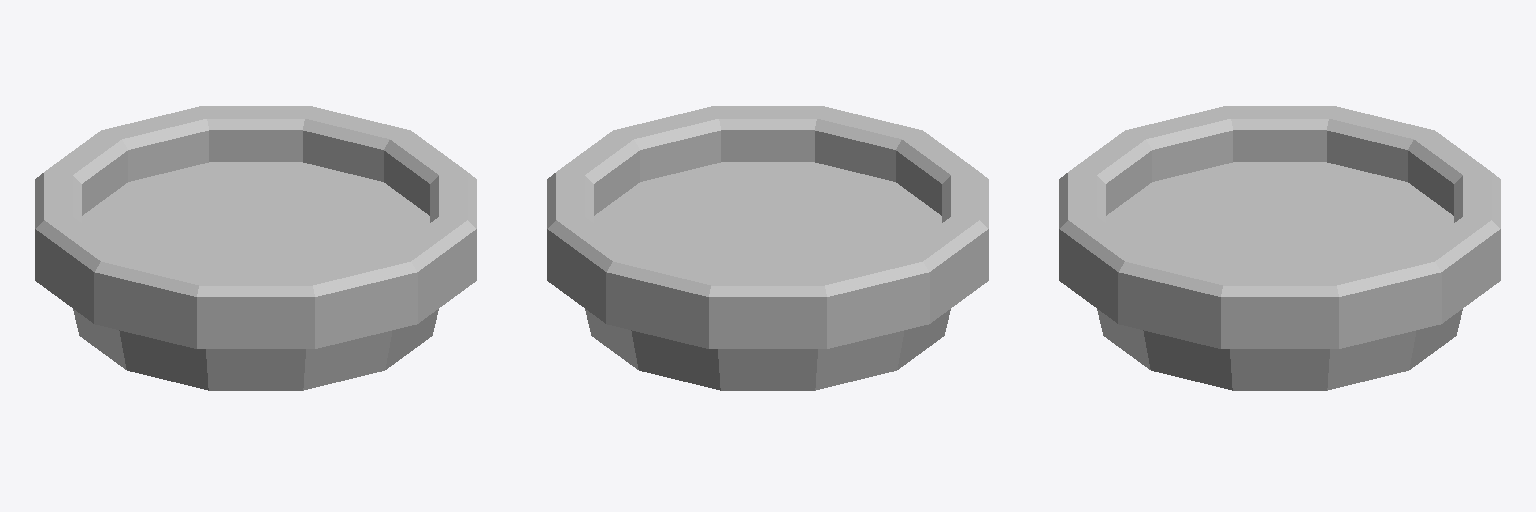
File: saucer_A_medium.obj
The picture shows the model from 3 angles: view 1: azimuth 30°, elevation 25°; view 2: azimuth 150°, elevation 25°; view 3: azimuth 270°, elevation 25°; orthographic projection.
Parts seen in each view (by area): view 1: saucer_A_medium; view 2: saucer_A_medium; view 3: saucer_A_medium.
Boxes of the visible parts, <box> form: saucer_A_medium: <box>35,106,476,390</box>; saucer_A_medium: <box>547,106,988,390</box>; saucer_A_medium: <box>1059,106,1500,390</box>.
Size of the model in its own units: 1 by 0.3 by 1.